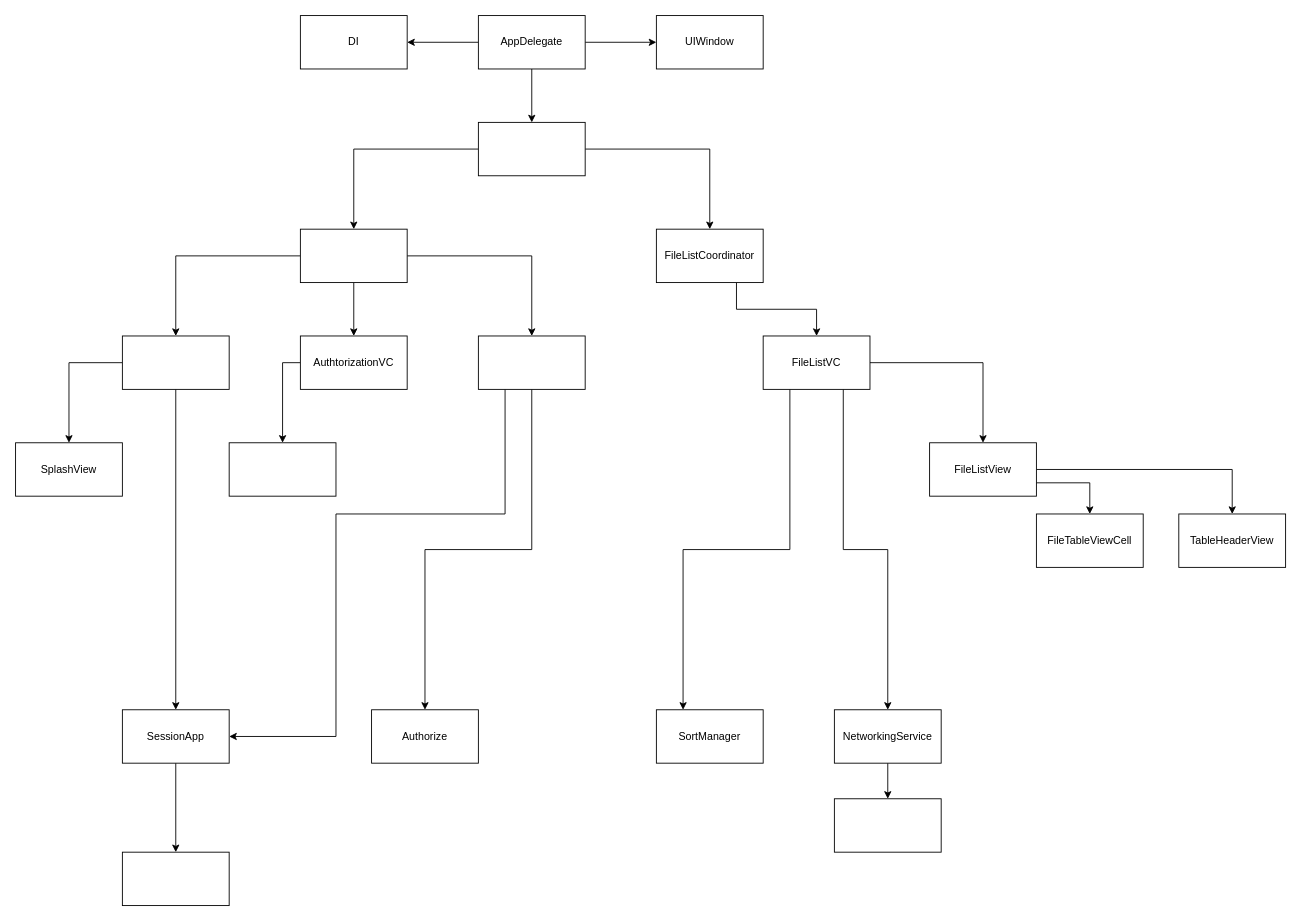
The diagram is 1301 pixels wide and 921 high, and some of its shapes have lost their labels. Here are the shapes that lost their labels. From the top down, the box of each, then its label:
(477, 121, 585, 176): ApplicationCoordinator
(299, 228, 407, 283): StartCoordinator
(121, 335, 229, 389): SplashVC
(477, 335, 585, 389): WebAuthVC
(228, 442, 336, 496): AuthtorizationView
(833, 798, 941, 852): URLSession
(121, 851, 229, 906): UserDefaults
